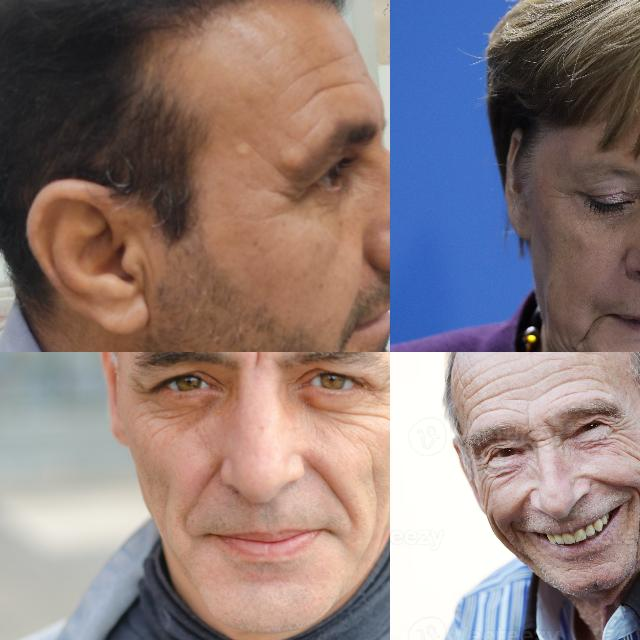crows_feet: (273, 176, 307, 218), (130, 372, 154, 404), (610, 416, 632, 446), (546, 186, 578, 206), (366, 376, 390, 401), (472, 453, 492, 482)
forehead: (298, 46, 350, 78), (304, 74, 358, 104), (535, 358, 575, 398), (464, 374, 494, 420), (498, 366, 524, 414), (581, 370, 607, 394)
frown_line: (530, 427, 554, 451), (247, 352, 266, 363)
gummy_smile: (312, 461, 346, 509), (193, 463, 220, 497), (590, 471, 622, 492)
masseter: (488, 516, 516, 548), (366, 454, 382, 504), (551, 326, 573, 352), (630, 501, 640, 549), (631, 451, 640, 496)
sad_smile: (578, 314, 598, 348)
